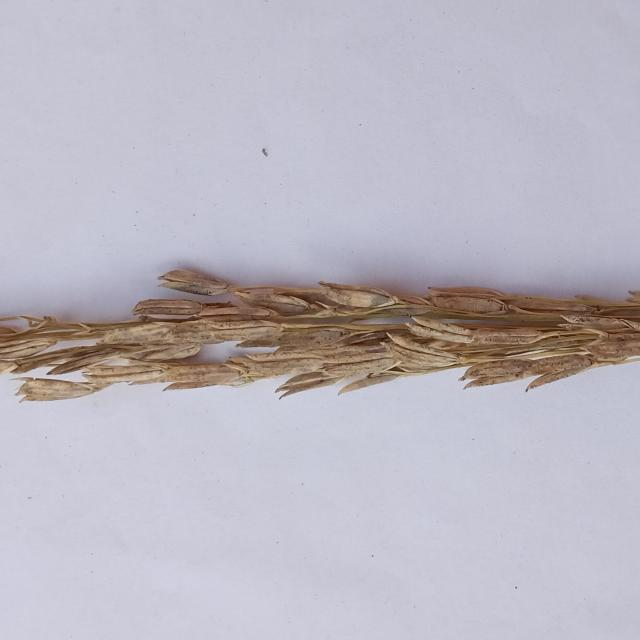Neck_Blast: (2, 263, 640, 403)
